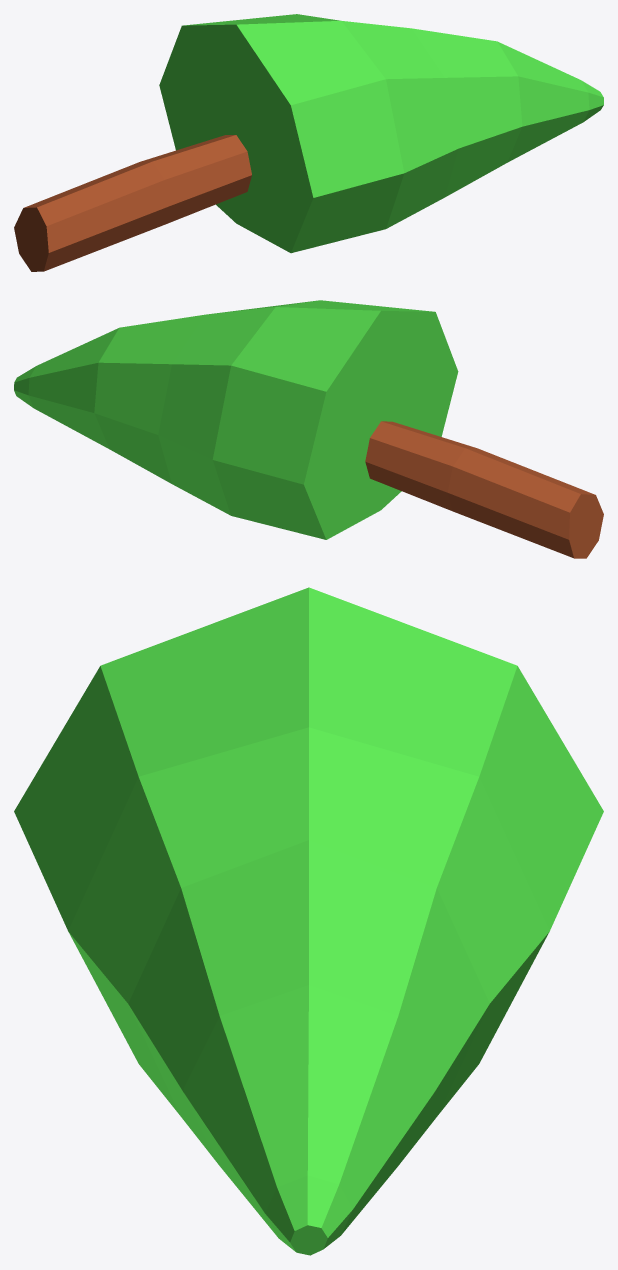
Rendered from Tree004_V5.fbx.
3 views of the same model, one above another, from view 1: azimuth 30°, elevation 25°; view 2: azimuth 150°, elevation 25°; view 3: azimuth 270°, elevation 25° (orthographic). The views are drawn at different scales.
Parts seen in each view (by area): view 1: Tree004.004; view 2: Tree004.004; view 3: Tree004.004.
Boxes of the visible parts, x1=… form: Tree004.004: x1=14, y1=14, x2=603, y2=271; Tree004.004: x1=14, y1=300, x2=603, y2=558; Tree004.004: x1=14, y1=587, x2=603, y2=1255.
Bounding box in the file's own units: 5.17 × 1.74 × 2.43.
